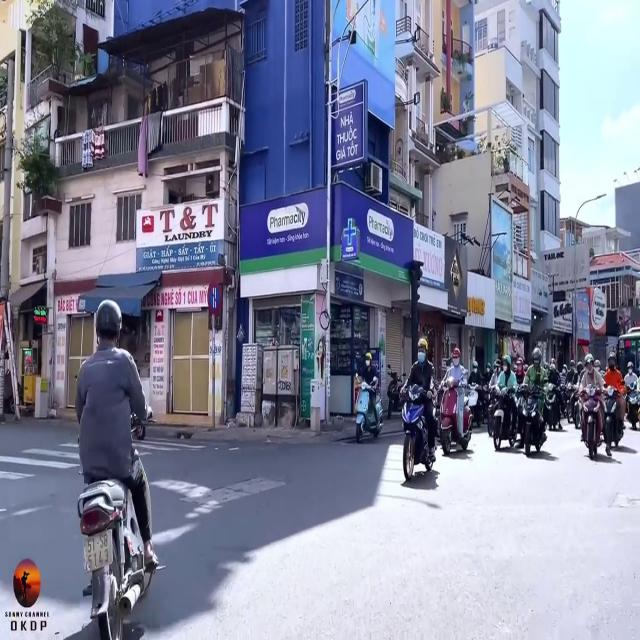bien_trang: (80, 534, 114, 568)
